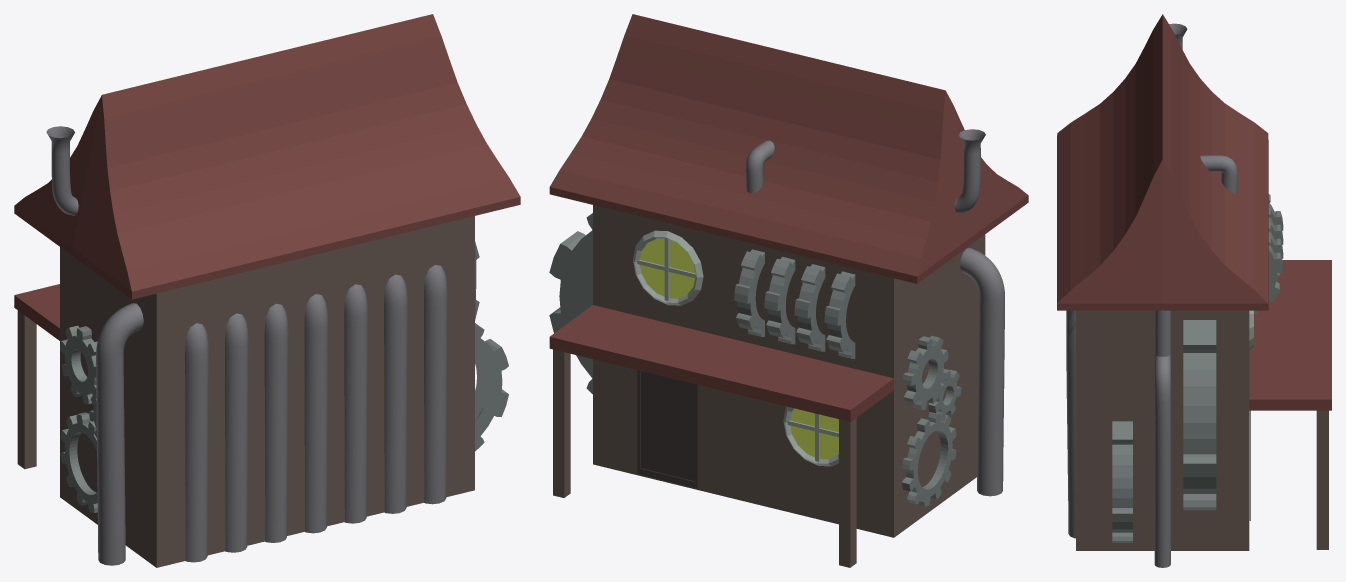
The model's file is Building16.fbx.
The picture shows the model from 3 angles, left to right: view 1: azimuth 30°, elevation 25°; view 2: azimuth 150°, elevation 25°; view 3: azimuth 270°, elevation 25°; orthographic projection. The views are drawn at different scales.
Parts seen in each view (by area): view 1: Plane, Cube, BezierCurve.001, BezierCurve.005, BezierCurve.006, BezierCurve.002, BezierCurve.008, BezierCurve.007, BezierCurve.009, BezierCurve.004, Plane.002, Gear.004 (+4 smaller); view 2: Plane, Cube, Plane.001, BezierCurve.001, Plane.004, Gear.005, Gear, Plane.002, Plane.003, Gear.002, Cylinder.001, Gear.007 (+9 smaller); view 3: Plane, Cube, Plane.001, Gear.005, BezierCurve, Gear.004, BezierCurve.004, Plane.003, Gear.008.
Part boxes in pixels (<box>): Plane: <box>14,14,520,299</box>; Cube: <box>60,216,474,567</box>; BezierCurve.001: <box>96,303,143,565</box>; BezierCurve.005: <box>344,284,367,523</box>; BezierCurve.006: <box>185,323,208,562</box>; BezierCurve.002: <box>384,274,407,513</box>; BezierCurve.008: <box>264,303,288,542</box>; BezierCurve.007: <box>304,294,327,533</box>; BezierCurve.009: <box>225,313,248,552</box>; BezierCurve.004: <box>424,265,447,504</box>; Plane.002: <box>17,310,36,469</box>; Gear.004: <box>475,323,508,451</box>; Plane: <box>549,14,1028,283</box>; Cube: <box>593,205,985,537</box>; Plane.001: <box>549,305,893,421</box>; BezierCurve.001: <box>960,248,1004,496</box>; Plane.004: <box>637,370,697,488</box>; Gear.005: <box>549,213,592,394</box>; Gear: <box>902,412,956,506</box>; Plane.002: <box>839,418,856,567</box>; Plane.003: <box>553,349,570,497</box>; Gear.002: <box>902,335,948,409</box>; Cylinder.001: <box>639,238,695,298</box>; Gear.007: <box>764,256,795,344</box>; Plane: <box>1057,14,1268,310</box>; Cube: <box>1076,310,1249,550</box>; Plane.001: <box>1249,260,1331,410</box>; Gear.005: <box>1183,320,1216,510</box>; BezierCurve: <box>1154,155,1237,567</box>; Gear.004: <box>1112,421,1132,542</box>; BezierCurve.004: <box>1066,322,1075,538</box>; Plane.003: <box>1316,410,1328,549</box>; Gear.008: <box>1254,236,1283,314</box>.
Bounding box in the file's own units: 1097 × 1056 × 666.
